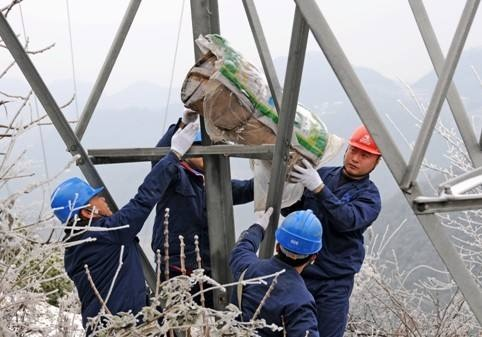blue: (49, 177, 113, 231), (273, 210, 323, 267)
red: (341, 125, 382, 177)
